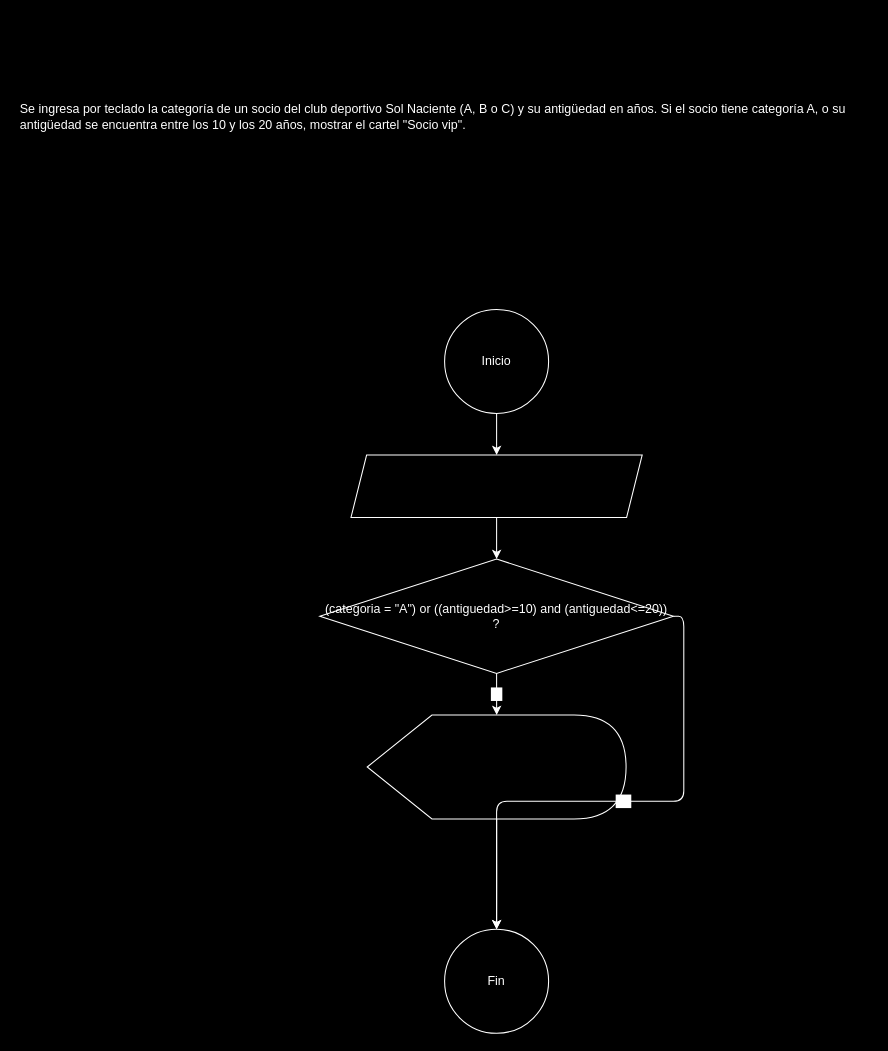
This 888x1051 diagram has some shape labels left out. Each missing label, with the centre of its shape:
Leer categoria, antiguedad: point 496,485
Mostrar "Socio vip": point 496,766
